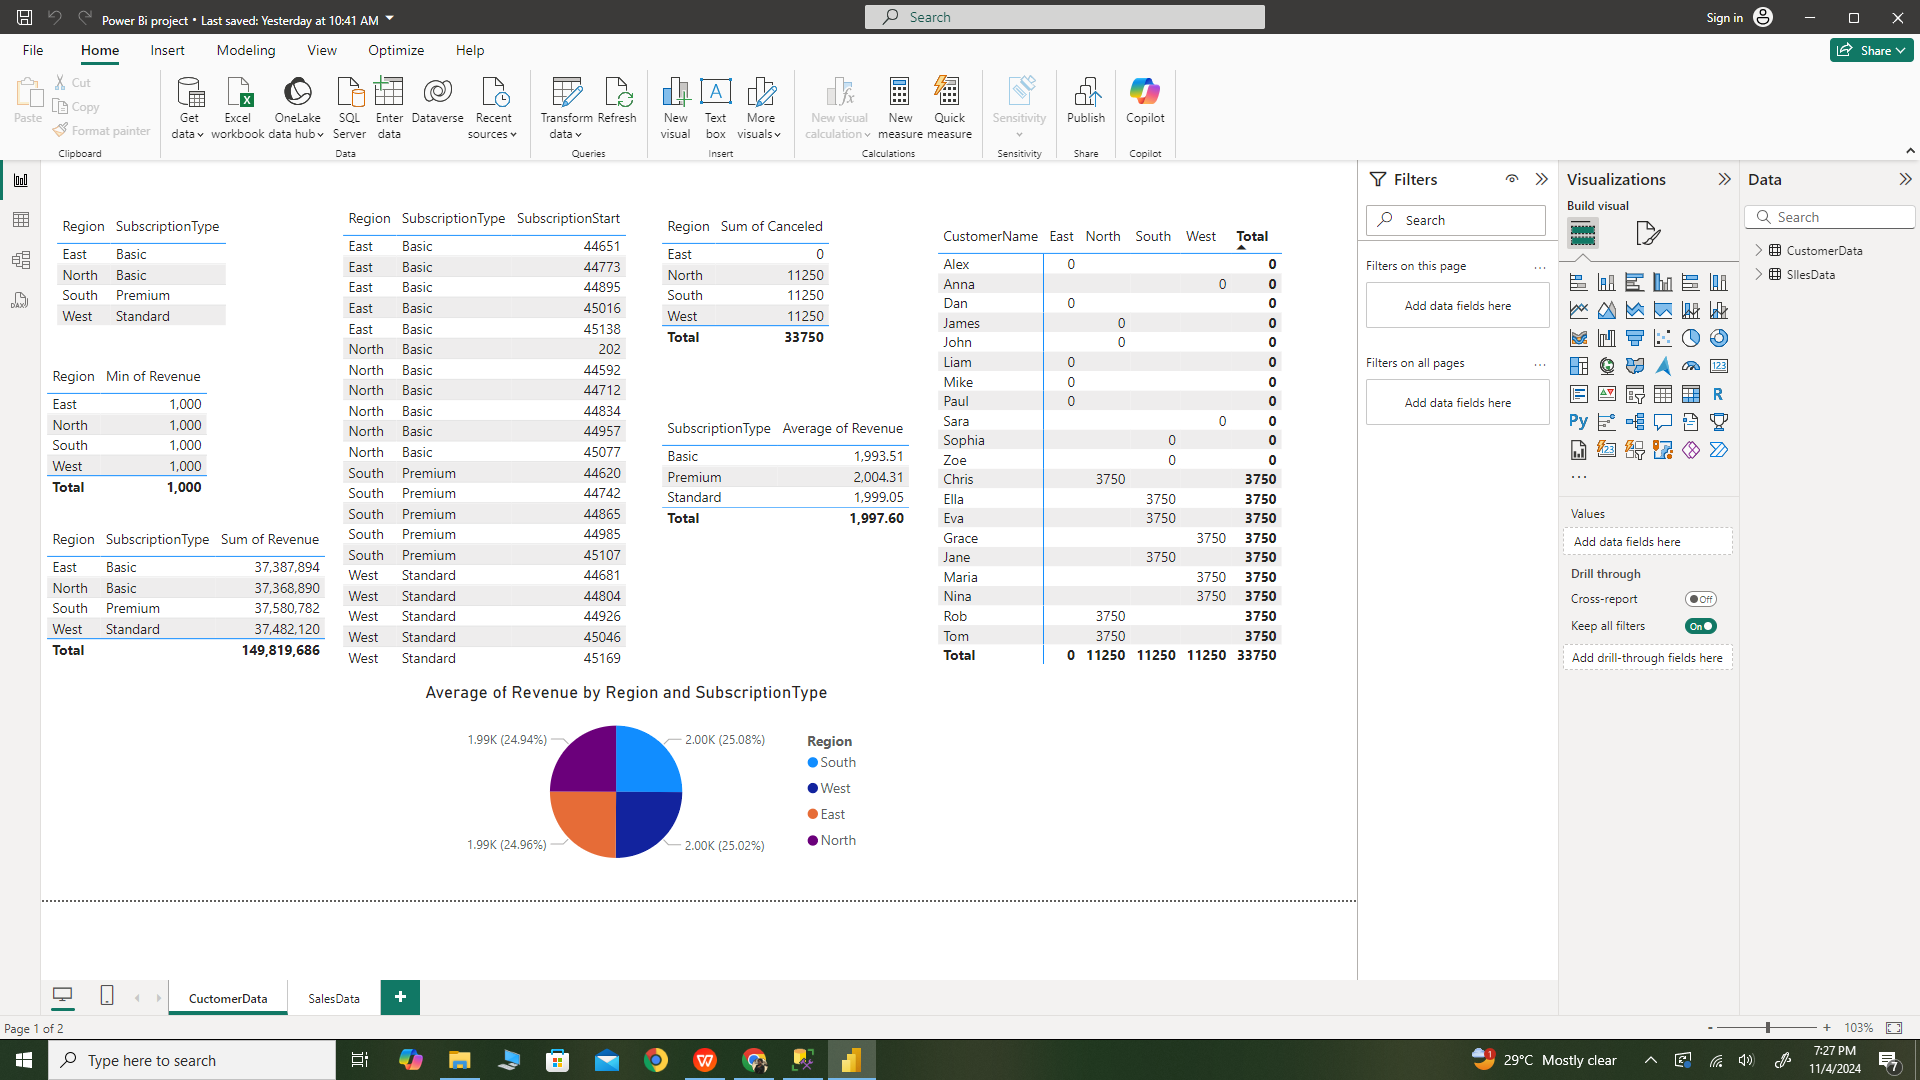

The page's visual inventory and layout, read from the dashboard file:
{"tool":"powerbi","page":{"name":"CuctomerData","canvas":[1280,720],"ordinal":0},"visuals":[{"type":"tableEx","fields":{"Values":["CustomerData.Region","CustomerData.SubscriptionType"]},"box":[9.7,48.6,218.8,145.9],"z":0},{"type":"tableEx","fields":{"Values":["CustomerData.Region","CustomerData.Revenue"]},"box":[0,194.5,255.8,138.1],"z":1000},{"type":"tableEx","fields":{"Values":["CustomerData.Region","CustomerData.SubscriptionType","CustomerData.Revenue"]},"box":[0,353.1,324.9,169.2],"z":2000},{"type":"tableEx","fields":{"Values":["CustomerData.Region","CustomerData.SubscriptionType","CustomerData.SubscriptionStart"]},"box":[287.9,40.9,329.7,473.7],"z":3000},{"type":"tableEx","fields":{"Values":["CustomerData.Region","CustomerData.Canceled"]},"box":[598.2,48.6,215.9,196.5],"z":4000},{"type":"tableEx","fields":{"Values":["CustomerData.SubscriptionType","CustomerData.Revenue"]},"box":[598.2,245.1,321,132.3],"z":5000},{"type":"pivotTable","fields":{"Rows":["CustomerData.CustomerName"],"Columns":["CustomerData.Region"],"Values":["CustomerData.Canceled"]},"box":[867.6,58.4,380.3,439.6],"z":6000},{"type":"pieChart","fields":{"Category":["CustomerData.Region"],"Series":["CustomerData.SubscriptionType"],"Y":["CustomerData.Revenue"]},"box":[368.6,507.7,445.5,194.5],"z":7000}]}

Visuals, with their boxes on the page's 1280x720 design canvas (x1, y1, x2, y2). These are canvas units, not pixel positions in the 1920x1080 screenshot, which may show the page scaled, cropped or inside an application window:
tableEx - CustomerData.Region x CustomerData.SubscriptionType: <box>10,49,228,194</box>
tableEx - CustomerData.Region x CustomerData.Revenue: <box>0,194,256,333</box>
tableEx - CustomerData.Region x CustomerData.SubscriptionType: <box>0,353,325,522</box>
tableEx - CustomerData.Region x CustomerData.SubscriptionType: <box>288,41,618,515</box>
tableEx - CustomerData.Region x CustomerData.Canceled: <box>598,49,814,245</box>
tableEx - CustomerData.SubscriptionType x CustomerData.Revenue: <box>598,245,919,377</box>
pivotTable - CustomerData.CustomerName x CustomerData.Region: <box>868,58,1248,498</box>
pieChart - CustomerData.Region x CustomerData.SubscriptionType: <box>369,508,814,702</box>
